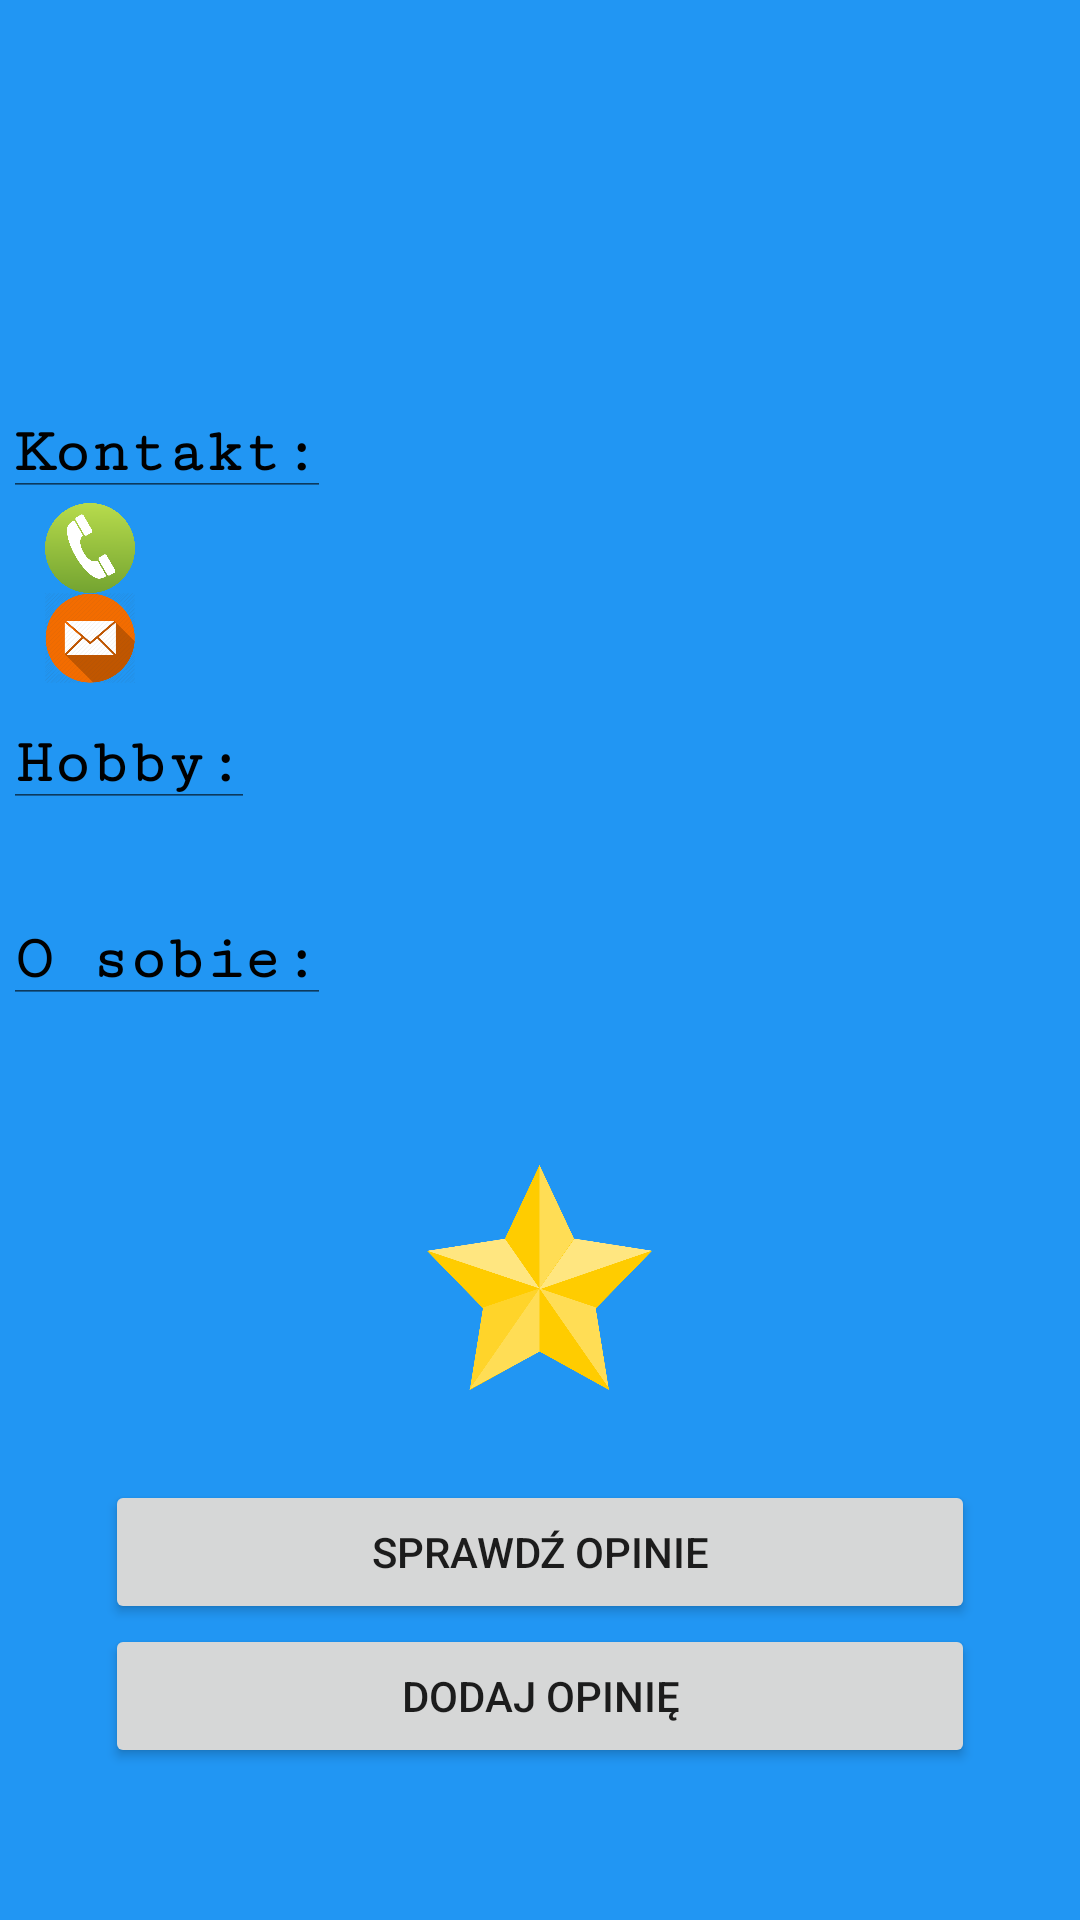

Icons on this 1080 x 1920 Android screen, each with the point to tap as (x=x, y=y):
call: (x=90, y=548)
email: (x=90, y=638)
star: (x=539, y=1277)
